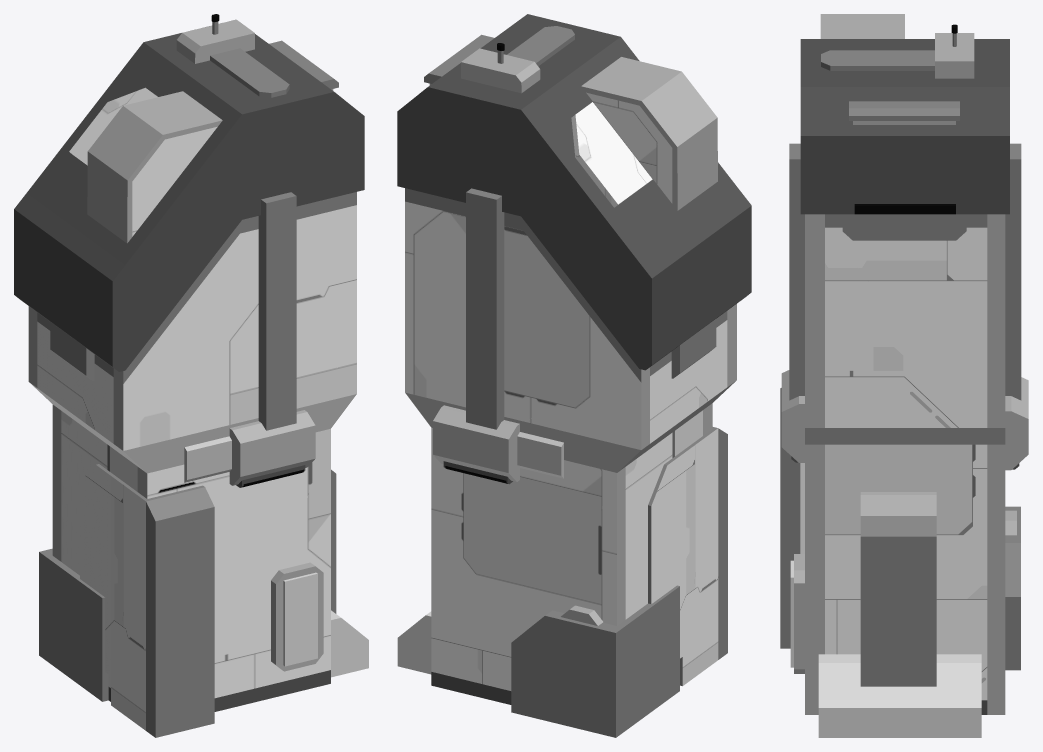
The model's file is SM_BuildingExtra_Tower_3.fbx.
The picture shows the model from 3 angles, left to right: view 1: azimuth 30°, elevation 25°; view 2: azimuth 150°, elevation 25°; view 3: azimuth 270°, elevation 25°; orthographic projection. The views are drawn at different scales.
Visible parts, largest first — view 1: SM_BuildingExtra_Tower_3; view 2: SM_BuildingExtra_Tower_3; view 3: SM_BuildingExtra_Tower_3.
Part boxes in pixels (bbox=[...]): SM_BuildingExtra_Tower_3: bbox=[14, 14, 368, 737]; SM_BuildingExtra_Tower_3: bbox=[397, 14, 751, 737]; SM_BuildingExtra_Tower_3: bbox=[780, 14, 1028, 737].
Size of the model in its own units: 510 by 1155 by 391.
